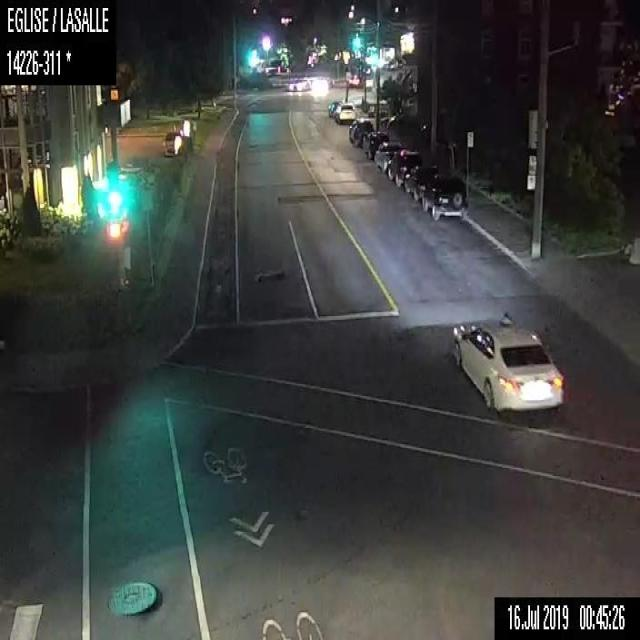vehicle: (450, 312, 567, 409), (422, 175, 466, 222), (403, 162, 442, 200), (387, 147, 421, 187), (373, 140, 402, 172), (347, 115, 373, 147), (362, 129, 389, 159), (162, 125, 182, 156), (334, 102, 356, 123), (312, 76, 334, 93), (287, 76, 309, 91), (327, 99, 343, 118)
